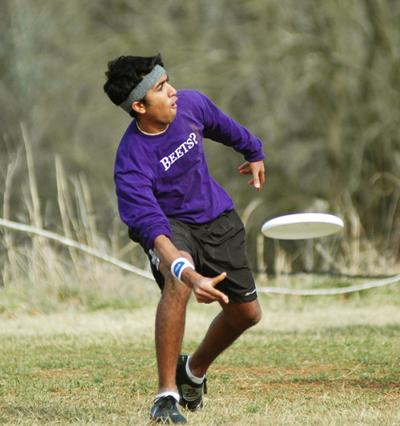person: (105, 53, 269, 426)
